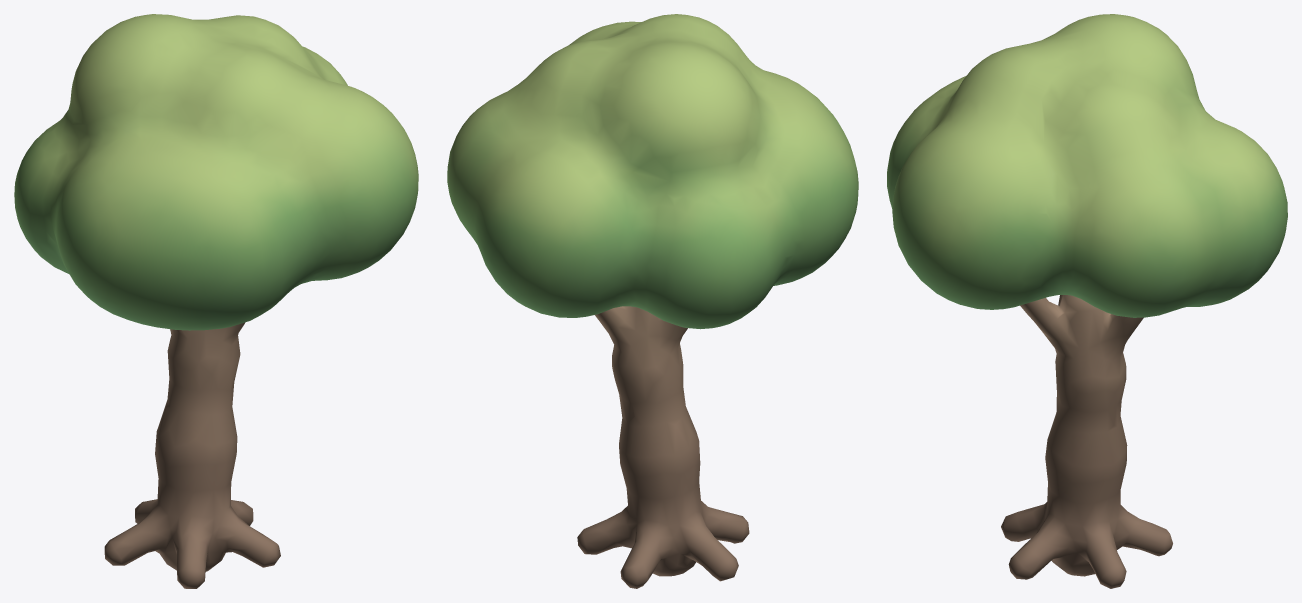
Rendered from Tree_Round_1.fbx.
3 renders of one model, left to right at view 1: azimuth 30°, elevation 25°; view 2: azimuth 150°, elevation 25°; view 3: azimuth 270°, elevation 25°, orthographic.
Visible parts, largest first — view 1: Tree_Round_1; view 2: Tree_Round_1; view 3: Tree_Round_1.
Boxes of the visible parts, box(x1,y1,x2,y2) form: Tree_Round_1: box(14, 14, 418, 588); Tree_Round_1: box(447, 14, 858, 588); Tree_Round_1: box(887, 14, 1287, 588).
Bounding box in the file's own units: 4.19 × 6.51 × 4.38.
